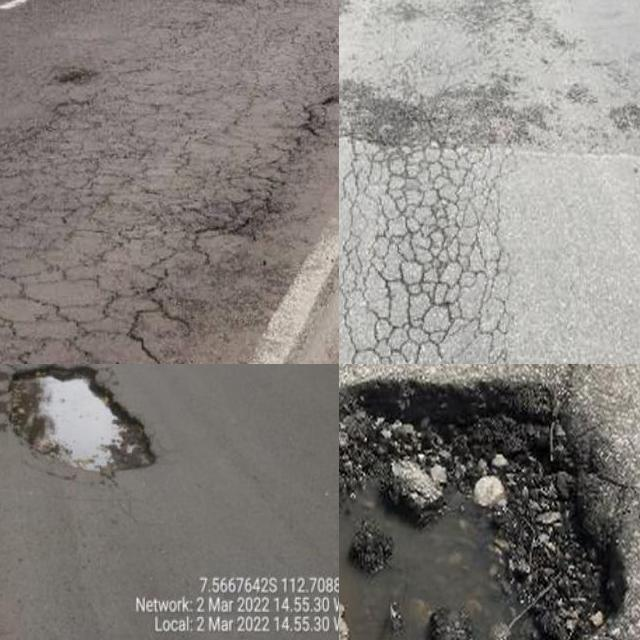Lubang: (339, 381, 628, 640), (10, 364, 154, 477)
Retak Buaya: (0, 168, 270, 364), (339, 141, 509, 364)
